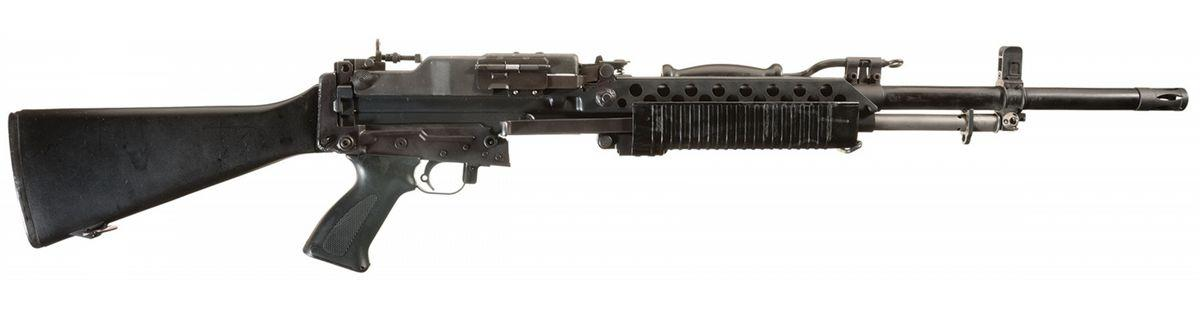larga: (9, 34, 1189, 276)
